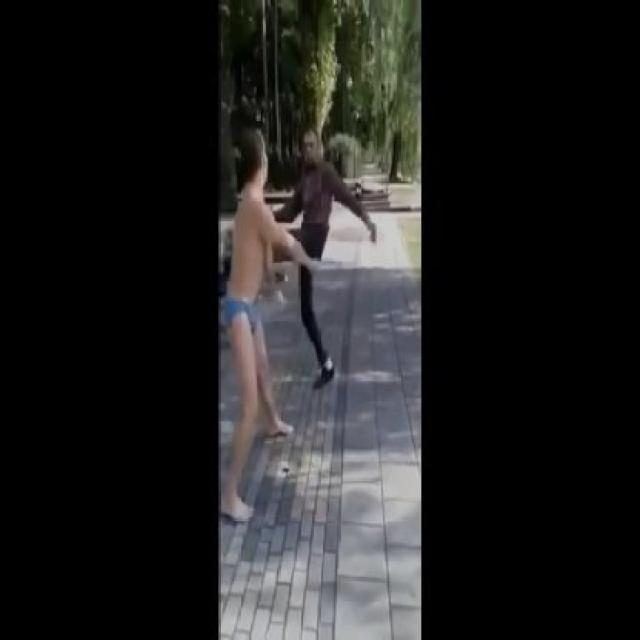fight: (214, 100, 394, 528)
